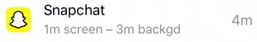name: (41, 2, 110, 20)
time: (114, 22, 136, 38), (41, 22, 62, 38)
